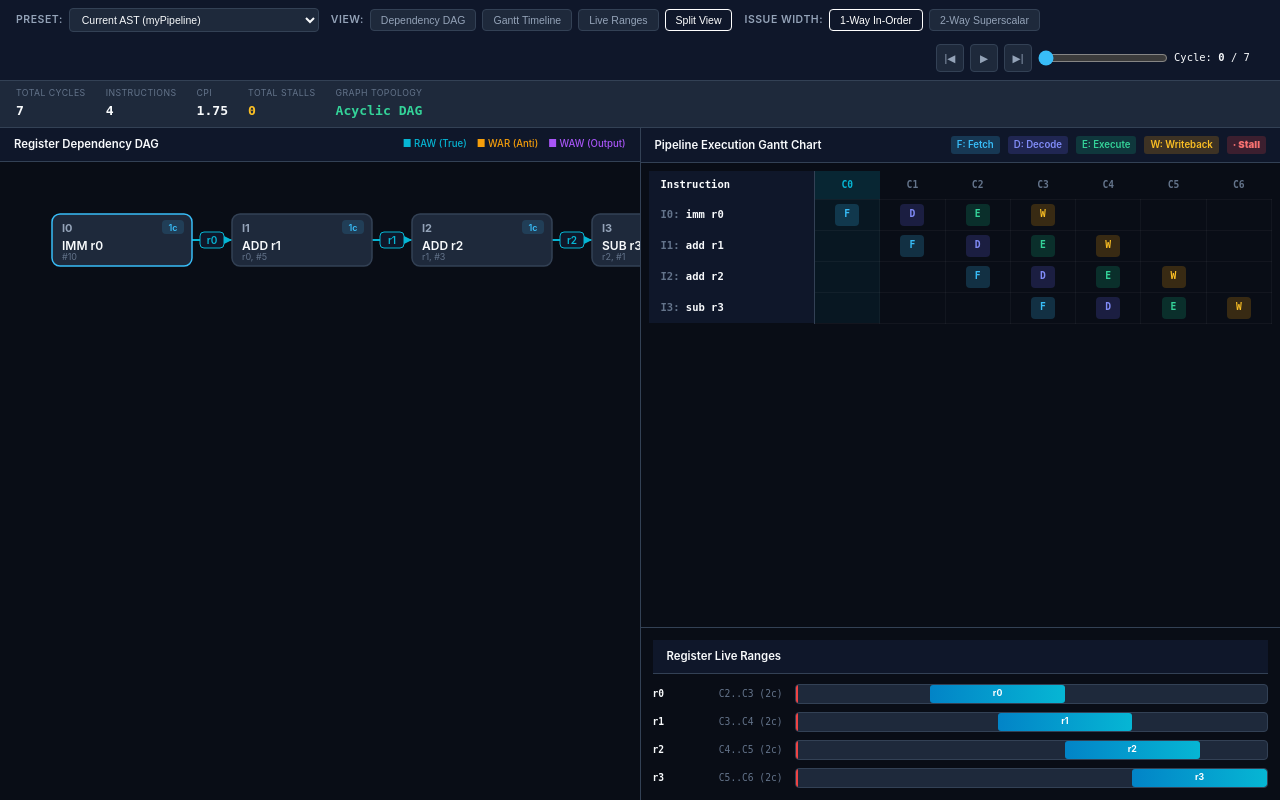
Test case: HardwarePipelineWidget Component › switches view modes via toolbar buttons
The width and height of the screenshot is (1280, 800).
Switch to DAG view only
Click the button with test id "hardware-mode-dag" at (423, 20), box [370, 9, 476, 31]
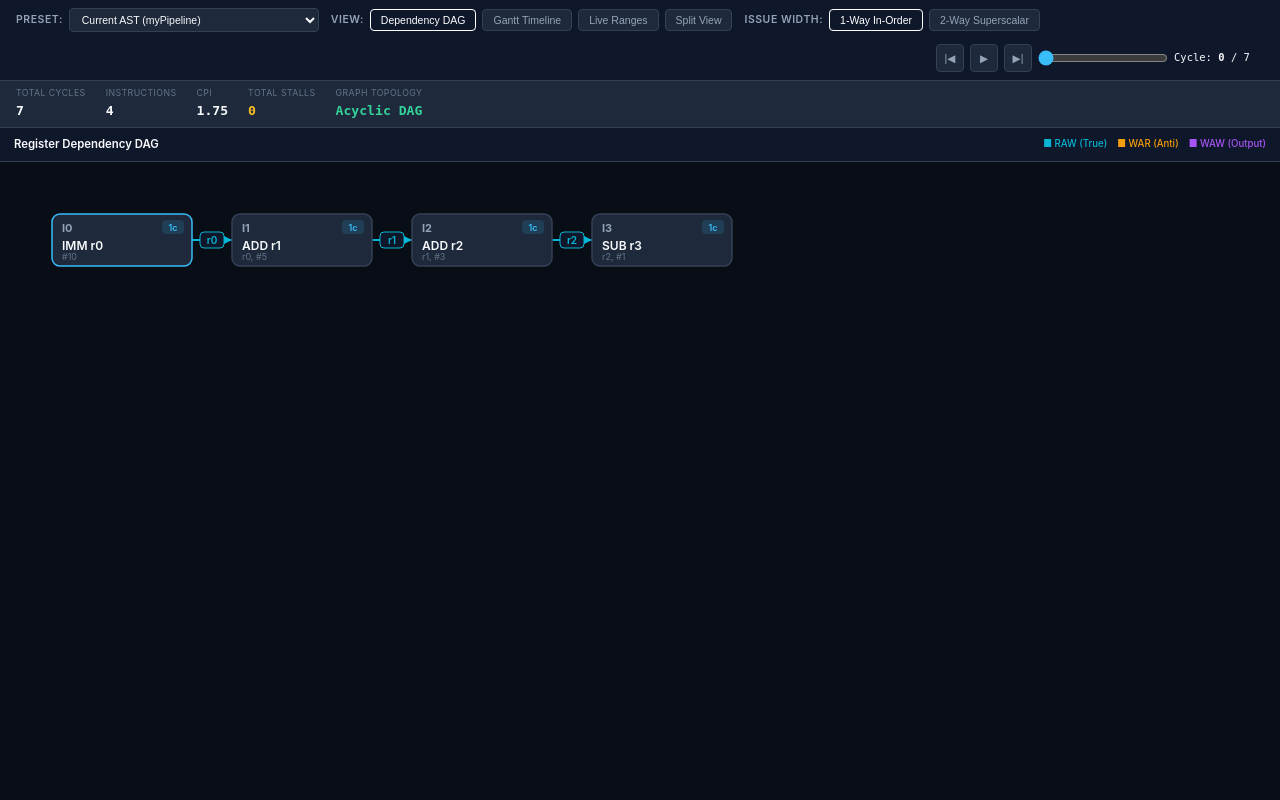
Result: the element with test id "hardware-gantt-panel" is gone
Switch to Gantt view only
Click the button with test id "hardware-mode-gantt" at (527, 20), box [482, 9, 572, 31]
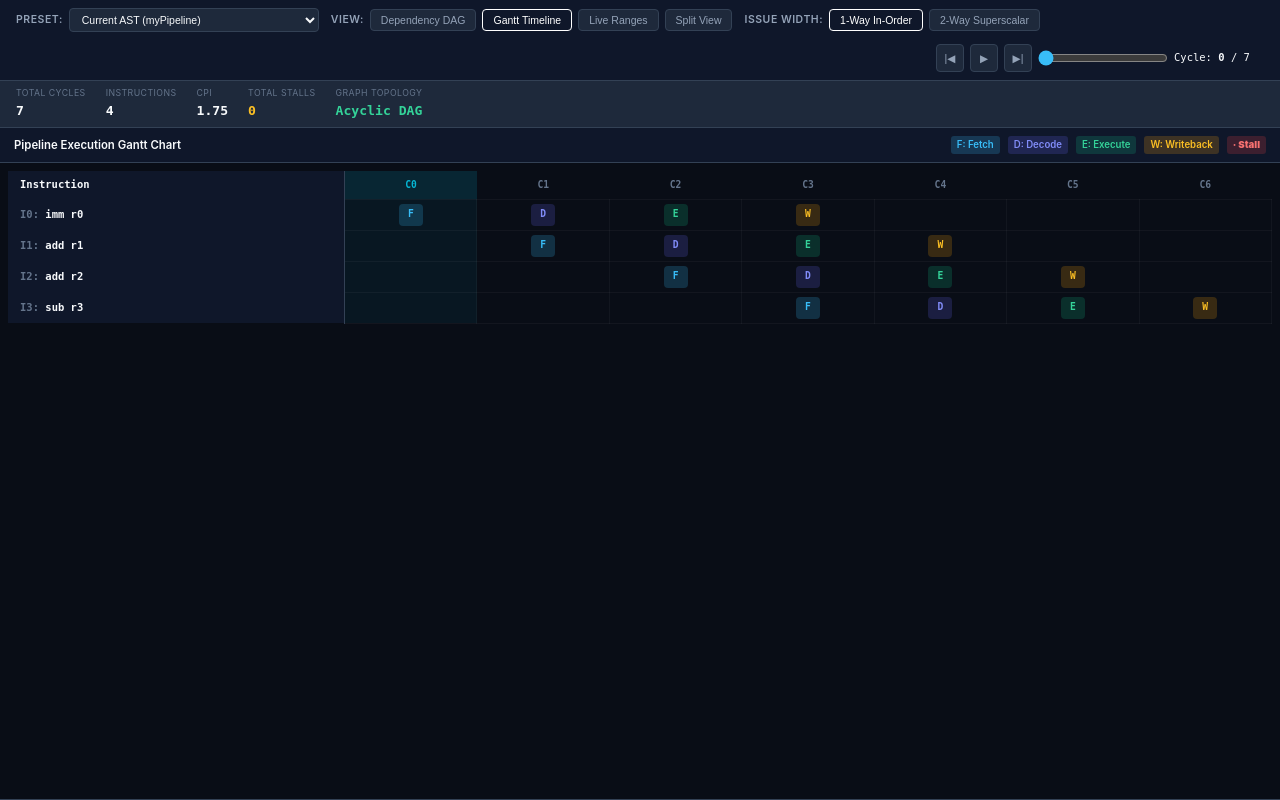
Result: the element with test id "hardware-dag-panel" is gone
Result: the element with test id "hardware-gantt-panel" is shown
Switch to Live Range view only
Click the button with test id "hardware-mode-liverange" at (618, 20), box [578, 9, 659, 31]
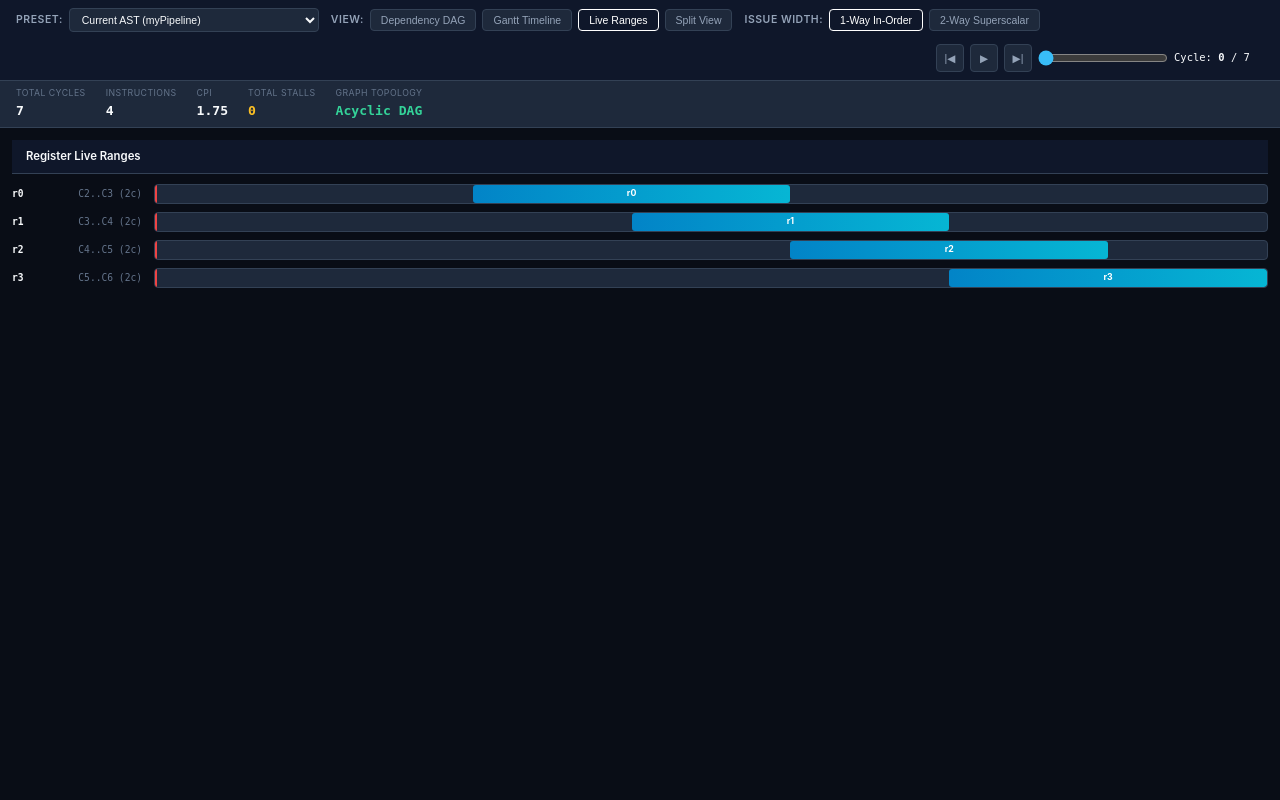
Result: the element with test id "hardware-liverange-panel" is shown at [0, 128, 1279, 300]
Switch back to Split view
Click the button with test id "hardware-mode-split" at (699, 20), box [665, 9, 732, 31]
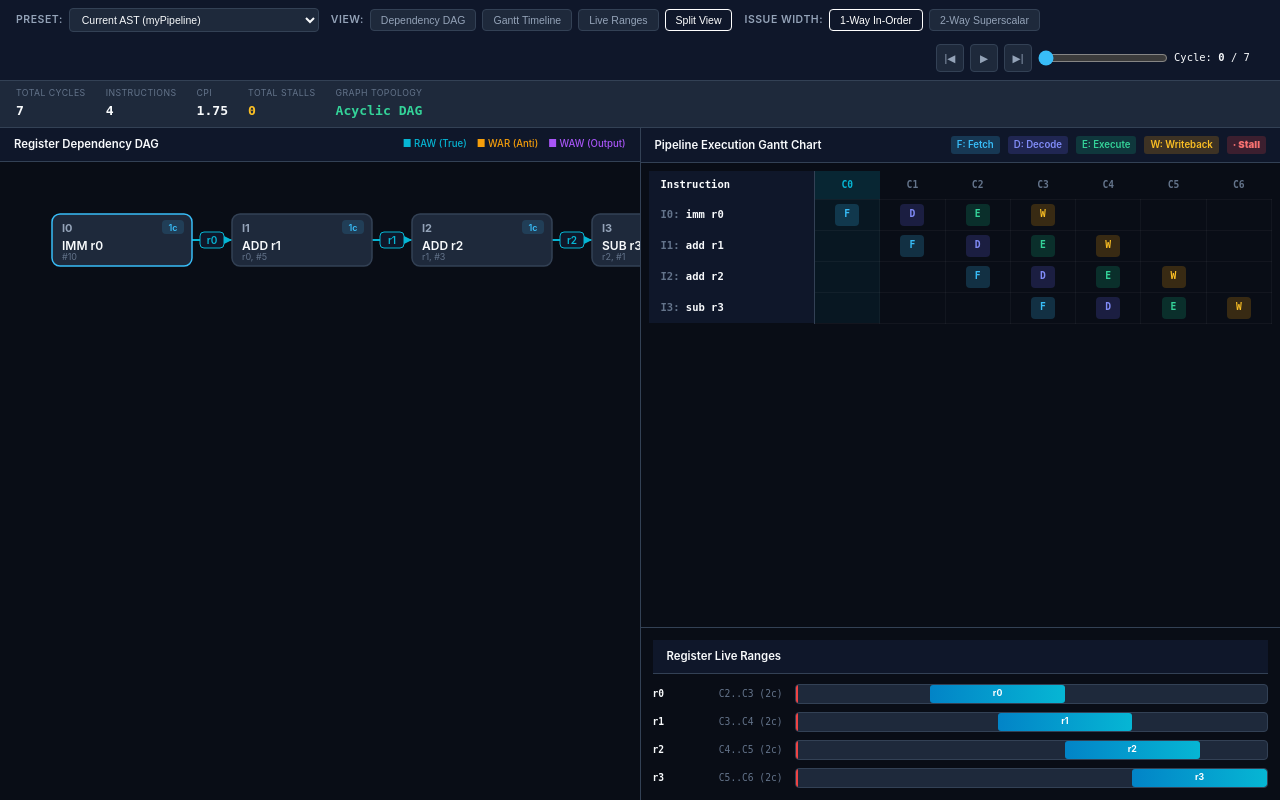
Result: the element with test id "hardware-dag-panel" is shown at [0, 128, 640, 799]
Result: the element with test id "hardware-gantt-panel" is shown at [640, 128, 1279, 628]
